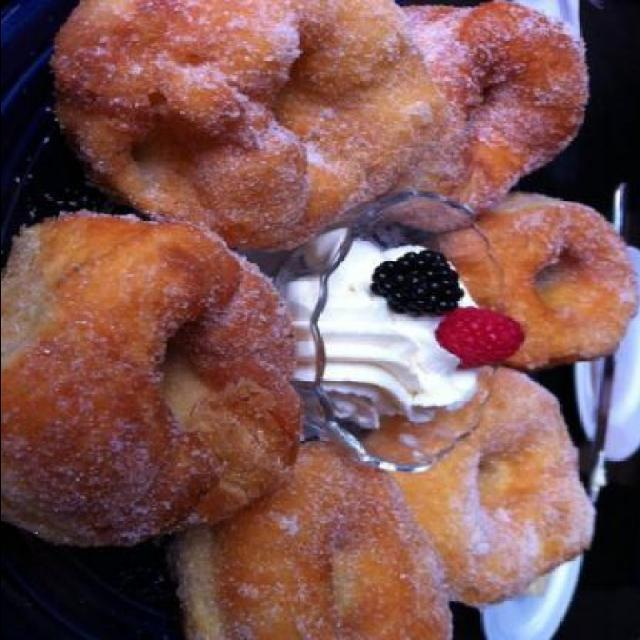Donuts: (34, 2, 602, 226), (166, 386, 600, 640), (2, 214, 306, 538), (475, 184, 637, 362)
